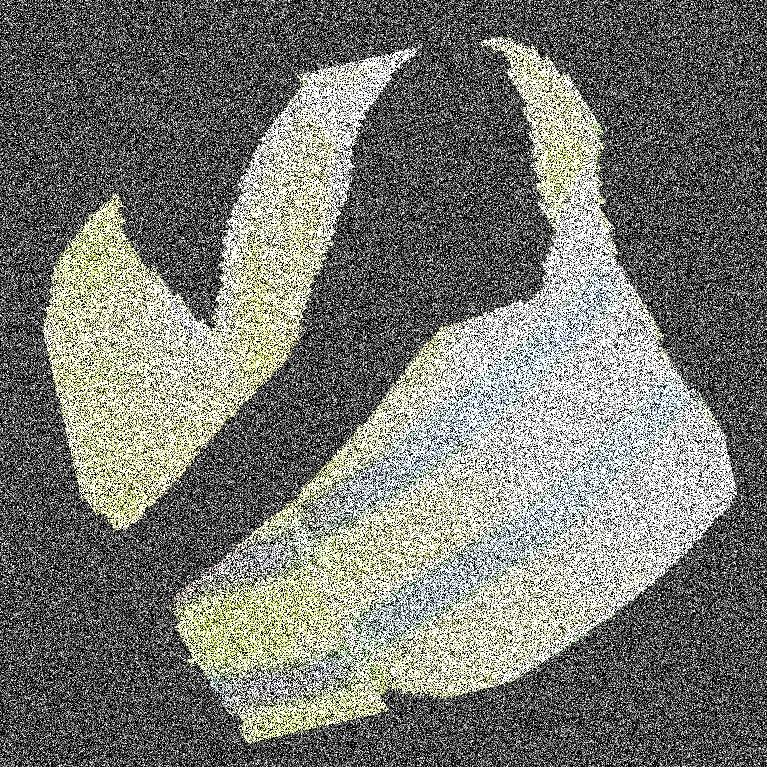Colete: (201, 0, 515, 766)
